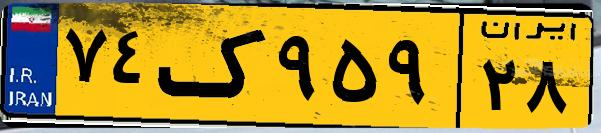2: (475, 38, 525, 113)
4: (110, 28, 158, 98)
5: (330, 28, 385, 110)
7: (57, 26, 110, 100)
8: (525, 38, 570, 115)
9: (270, 28, 330, 110), (385, 28, 445, 110)
ک: (158, 12, 270, 120)
